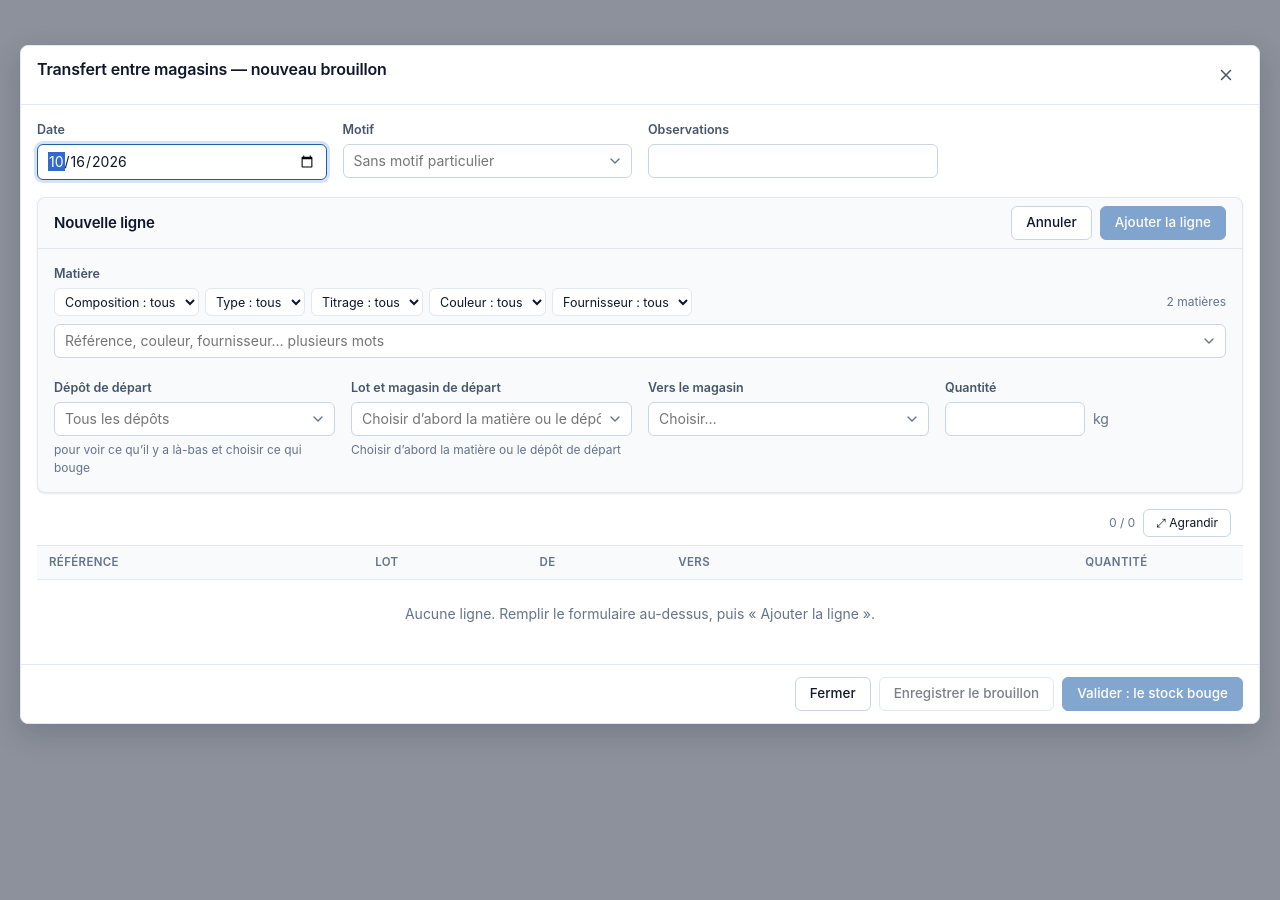
Opérations : la fenêtre › sans dépôt de départ, le chemin « matière d’abord » reste : les lots partent par matière
Click the dropdown named "Matière". click: (640,341)
box: [54,324,1226,358]
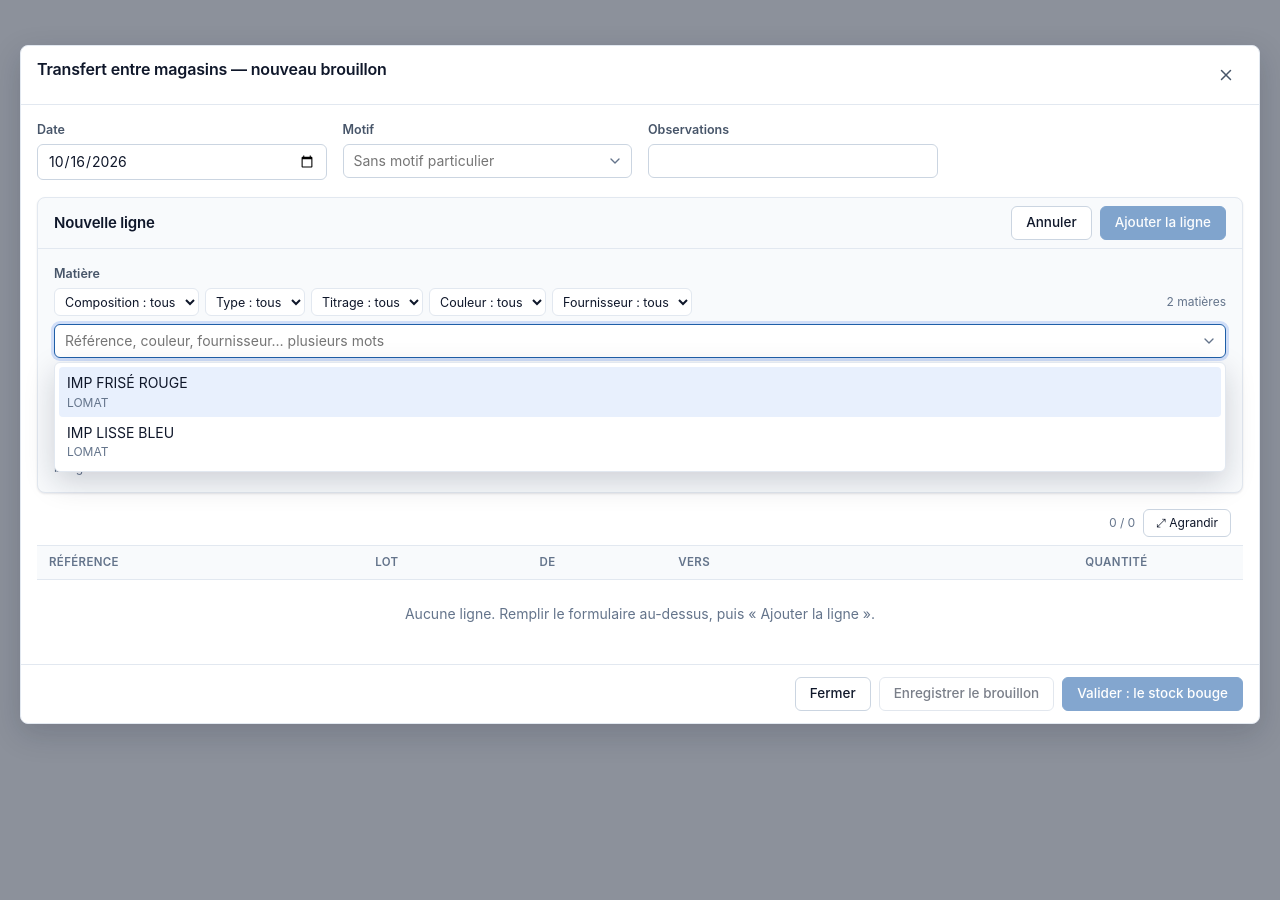
Click the option "IMP FRISÉ ROUGE LOMAT". click: (127,383)
box: [59,367,1221,417]
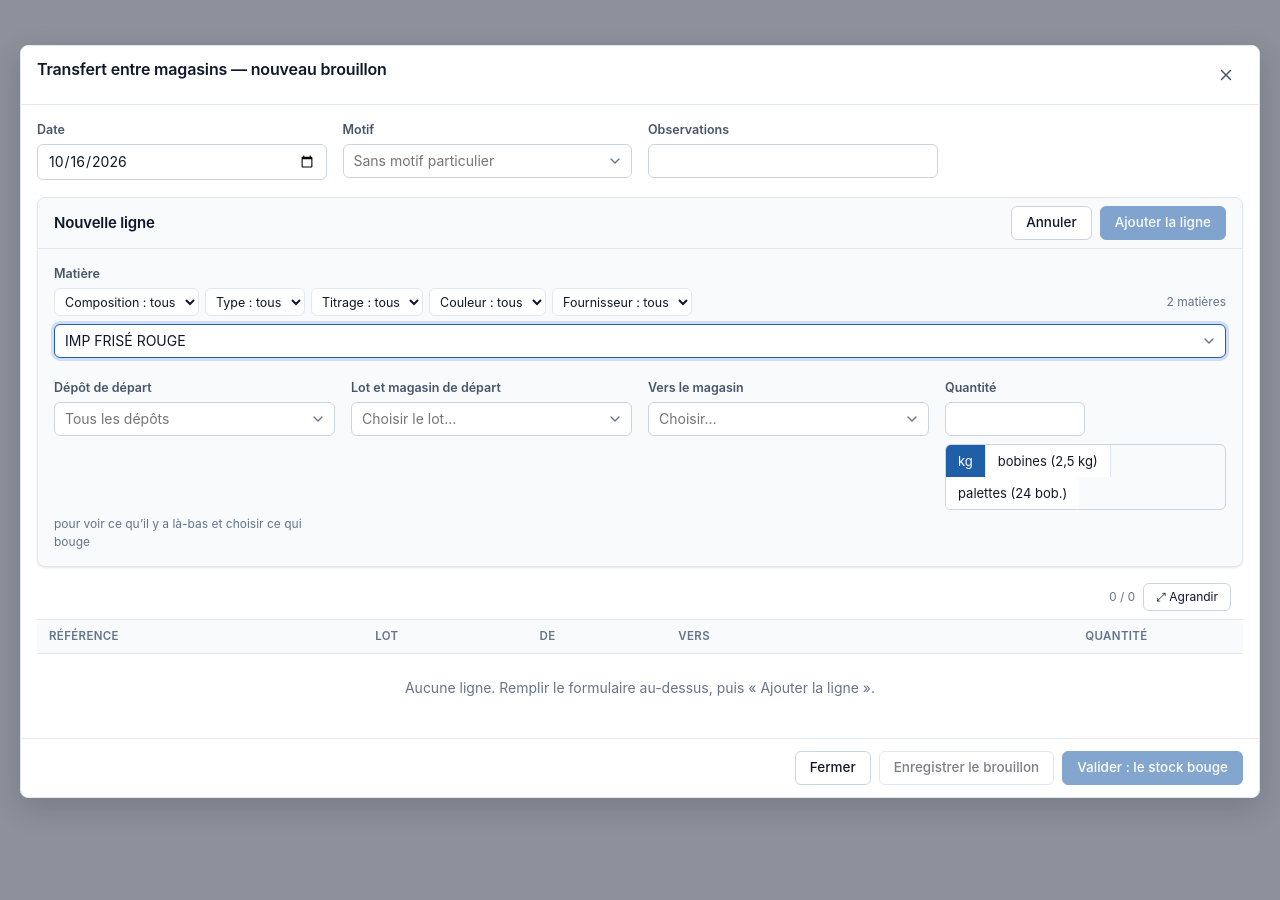
Click the dropdown labelled "Lot et magasin de départ". click: (492,419)
box: [351,402,632,436]
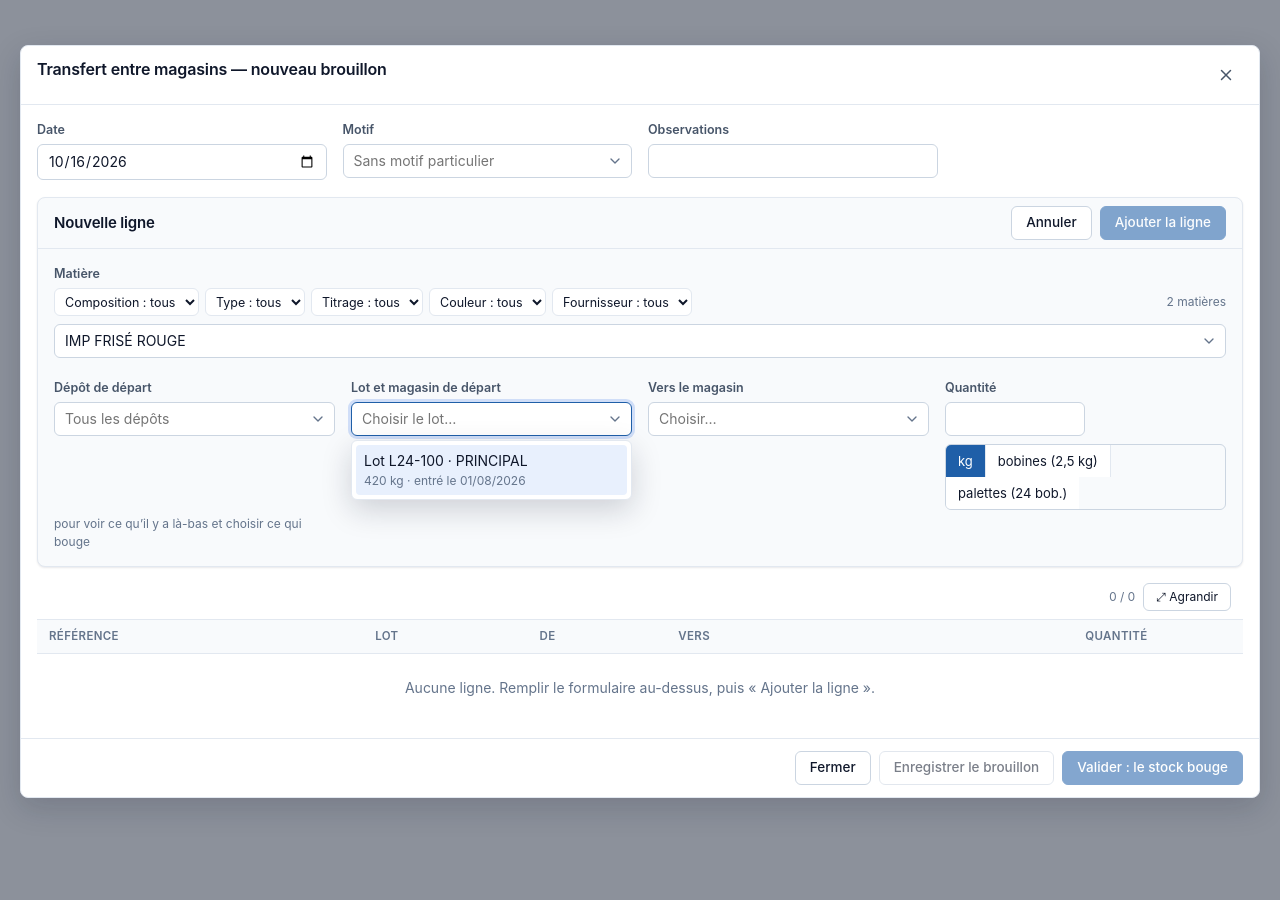
Check: the option "Lot L24-100 · PRINCIPAL 420 kg · entré le 01/08/2026" is shown, box [356,445,627,495]
